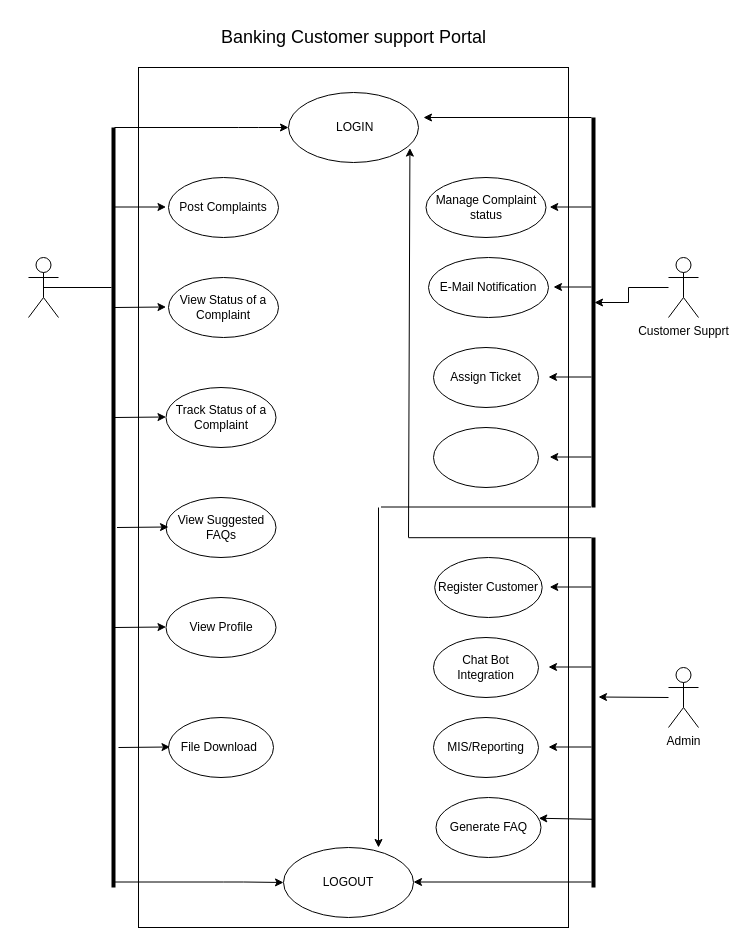
Image size: 746x945. Some labels were removed from this diagram. The centre of each missing label's shape, as x and y in pixels:
Customer: (x=43, y=287)
View Assignment: (x=485, y=457)
